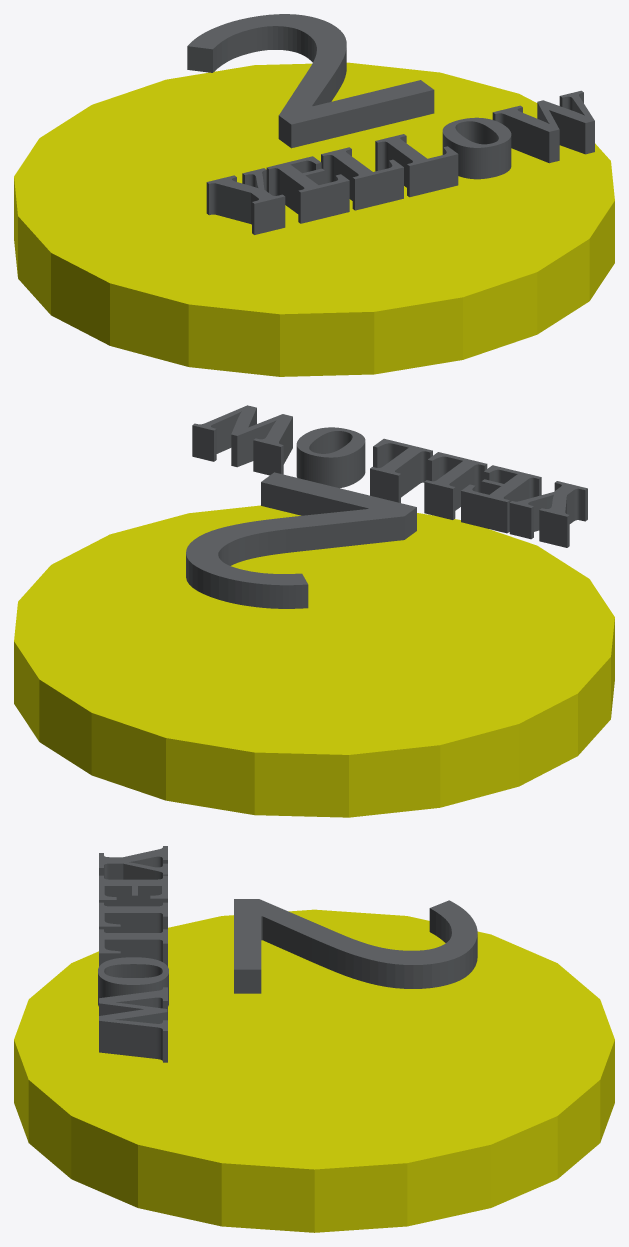
The model's file is 2yellow.gltf.
The picture shows the model from 3 angles, top to bottom: view 1: azimuth 30°, elevation 25°; view 2: azimuth 150°, elevation 25°; view 3: azimuth 270°, elevation 25°; orthographic projection.
Visible parts, largest first — view 1: Mesh_Mesh_head_geo001_lambert2SG001; view 2: Mesh_Mesh_head_geo001_lambert2SG001; view 3: Mesh_Mesh_head_geo001_lambert2SG001.
Boxes of the visible parts, left/top/right/bottom form: Mesh_Mesh_head_geo001_lambert2SG001: left=14, top=14, right=614, bottom=376; Mesh_Mesh_head_geo001_lambert2SG001: left=14, top=405, right=614, bottom=817; Mesh_Mesh_head_geo001_lambert2SG001: left=14, top=846, right=614, bottom=1232.
Bounding box in the file's own units: 176 × 54.56 × 172.
